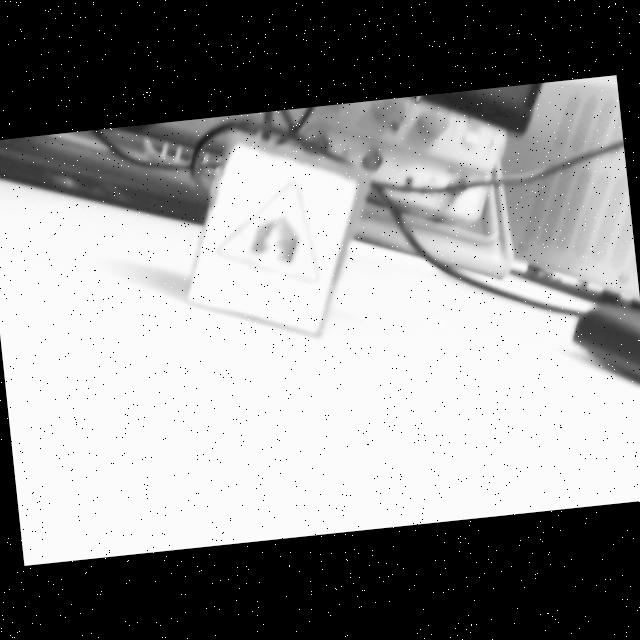Earthquake: (217, 182, 320, 283)
